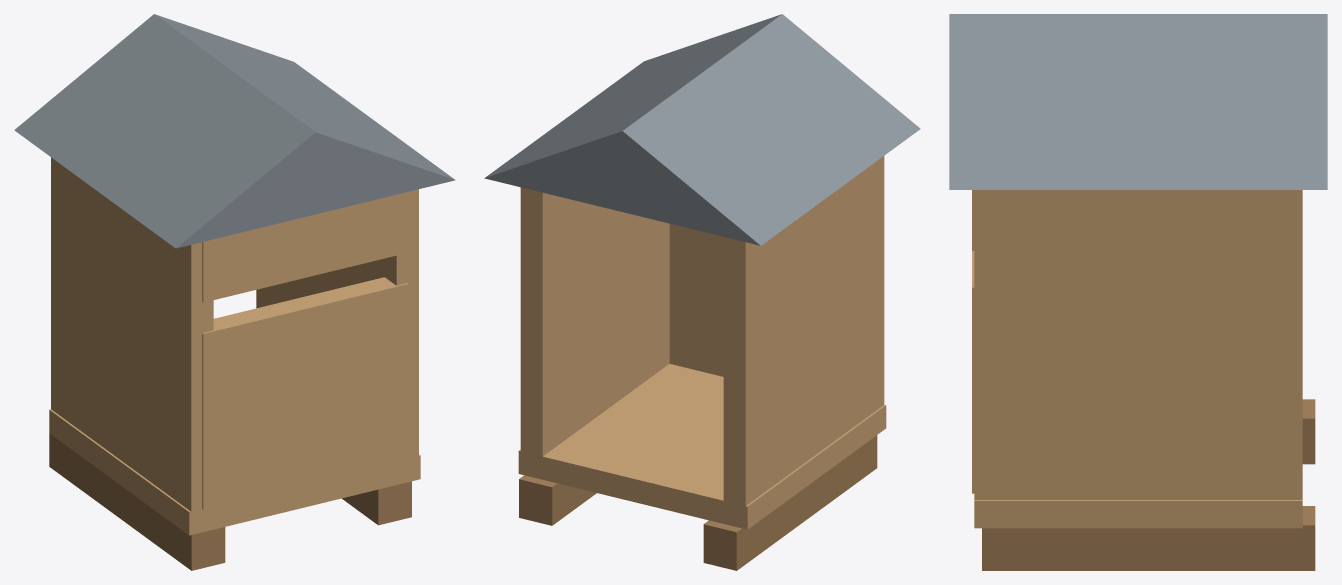
Rendered from brattice-box.glb.
The picture shows the model from 3 angles, left to right: view 1: azimuth 30°, elevation 25°; view 2: azimuth 150°, elevation 25°; view 3: azimuth 270°, elevation 25°; orthographic projection. The views are drawn at different scales.
Parts seen in each view (by area): view 1: brattice-box; view 2: brattice-box; view 3: brattice-box.
Part boxes in pixels (x1,y1,x2,y2): brattice-box: (14,14,455,570); brattice-box: (484,14,920,570); brattice-box: (949,14,1327,570).
Bounding box in the file's own units: 1.5 × 2.16 × 1.5.
